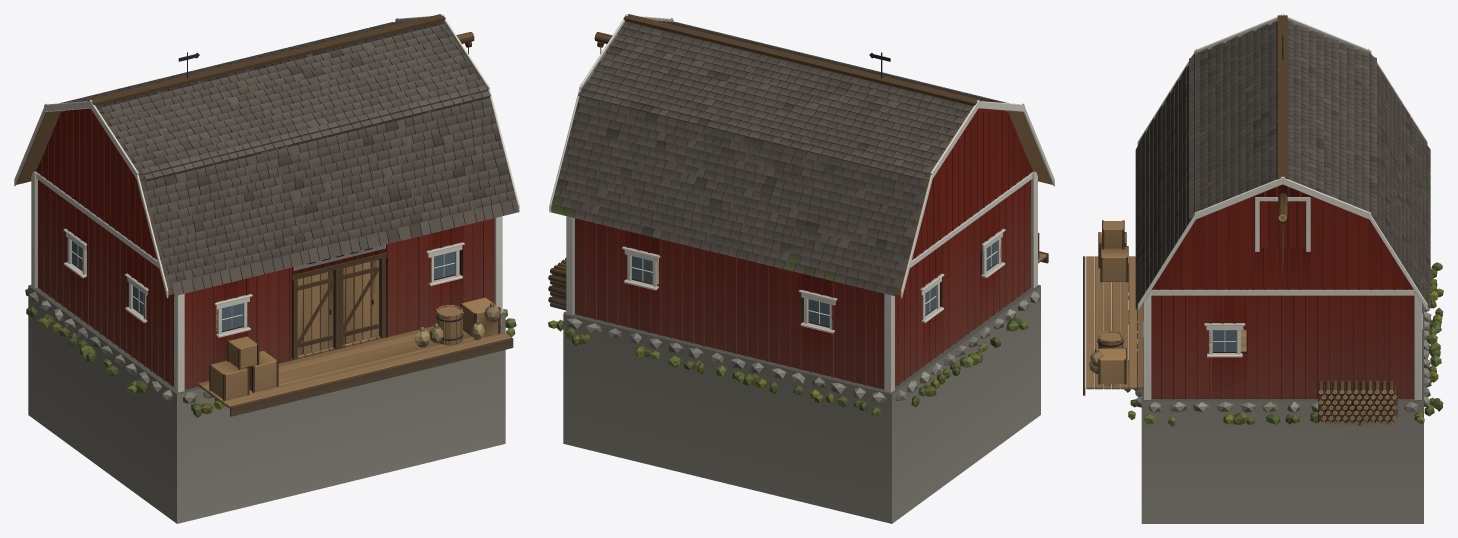
The model's file is ambar.glb.
The picture shows the model from 3 angles, left to right: view 1: azimuth 30°, elevation 25°; view 2: azimuth 150°, elevation 25°; view 3: azimuth 270°, elevation 25°; orthographic projection. The views are drawn at different scales.
Visible parts, largest first — view 1: stone-plinth-001, shingle-001, shingle-002, plank-038, plank-gable-025, plank-wall-006, plank-wall-003, plank-wall-002, plank-wall-024, plank-wall-016, shingle-ridge-005, plank-wall-007 (+24 smaller); view 2: stone-plinth-001, shingle-003, shingle-004, plank-gable-025, plank-wall-011, plank-wall-010, plank-wall-008, plank-wall-009, plank-wall-012, stone-found-003, plank-wall-013, plank-wall-024 (+15 smaller); view 3: stone-plinth-001, plank-gable-026, shingle-004, shingle-002, shingle-001, shingle-003, plank-wall-019, plank-wall-021, plank-038, plank-wall-022, plank-wall-020, plank-wall-024 (+14 smaller).
Part boxes in pixels (left/top/right/bottom): stone-plinth-001: left=28, top=285, right=505, bottom=523; shingle-001: left=138, top=89, right=518, bottom=296; shingle-002: left=95, top=21, right=490, bottom=180; plank-038: left=198, top=326, right=513, bottom=416; plank-gable-025: left=36, top=108, right=156, bottom=259; plank-wall-006: left=399, top=228, right=453, bottom=334; plank-wall-003: left=233, top=267, right=291, bottom=363; plank-wall-002: left=184, top=281, right=237, bottom=389; plank-wall-024: left=31, top=171, right=502, bottom=392; plank-wall-016: left=80, top=211, right=112, bottom=341; shingle-ridge-005: left=88, top=14, right=445, bottom=106; plank-wall-007: left=449, top=218, right=494, bottom=306; stone-plinth-001: left=563, top=285, right=1040, bottom=523; shingle-003: left=551, top=89, right=930, bottom=295; shingle-004: left=578, top=21, right=973, bottom=180; plank-gable-025: left=912, top=108, right=1032, bottom=259; plank-wall-011: left=669, top=241, right=723, bottom=350; plank-wall-010: left=723, top=254, right=777, bottom=363; plank-wall-008: left=831, top=281, right=884, bottom=389; plank-wall-009: left=777, top=267, right=831, bottom=376; plank-wall-012: left=615, top=228, right=669, bottom=337; stone-found-003: left=565, top=318, right=886, bottom=416; plank-wall-013: left=575, top=218, right=615, bottom=323; plank-wall-024: left=566, top=171, right=1037, bottom=392; stone-plinth-001: left=1141, top=303, right=1423, bottom=523; plank-gable-026: left=1152, top=184, right=1413, bottom=289; shingle-004: left=1287, top=20, right=1376, bottom=218; shingle-002: left=1189, top=20, right=1277, bottom=218; shingle-001: left=1135, top=53, right=1195, bottom=309; shingle-003: left=1369, top=53, right=1430, bottom=308; plank-wall-019: left=1151, top=295, right=1211, bottom=399; plank-wall-021: left=1272, top=295, right=1332, bottom=399; plank-038: left=1083, top=256, right=1143, bottom=395; plank-wall-022: left=1332, top=295, right=1392, bottom=385; plank-wall-020: left=1212, top=289, right=1271, bottom=399; plank-wall-024: left=1143, top=289, right=1421, bottom=400.
Bounding box in the file's own units: 10.97 × 10.72 × 9.32.
